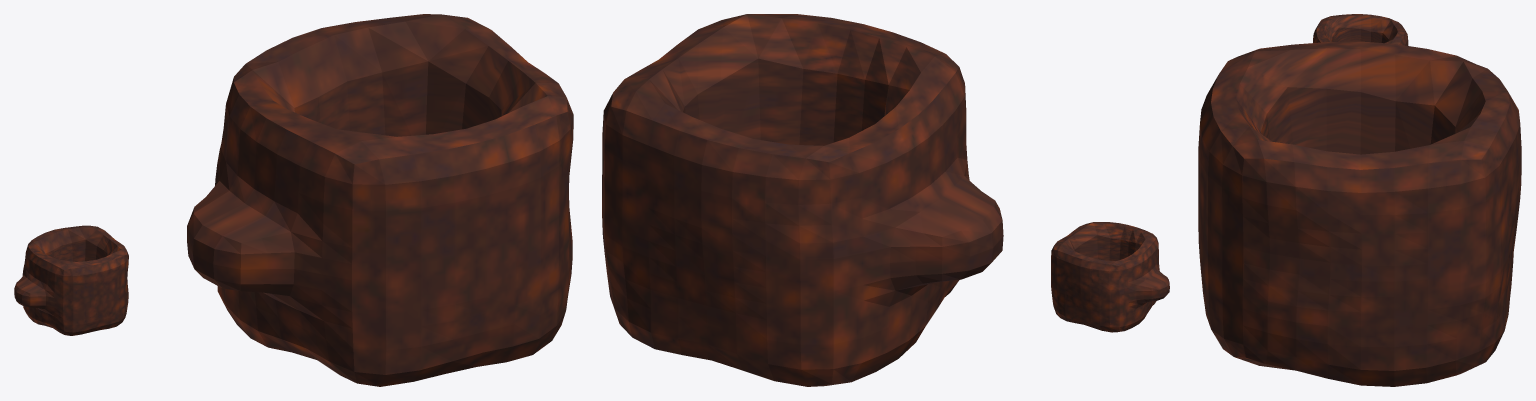
File: shackles.glb
3 views of the same model, side by side, from view 1: azimuth 30°, elevation 25°; view 2: azimuth 150°, elevation 25°; view 3: azimuth 270°, elevation 25° (orthographic). The views are drawn at different scales.
Visible parts, largest first — view 1: shackle.smd, shackle_small.smd; view 2: shackle.smd, shackle_small.smd; view 3: shackle.smd, shackle_small.smd.
Boxes of the visible parts, x1=… form: shackle.smd: x1=187, y1=14, x2=573, y2=386; shackle_small.smd: x1=14, y1=225, x2=128, y2=335; shackle.smd: x1=602, y1=14, x2=1003, y2=386; shackle_small.smd: x1=1051, y1=222, x2=1169, y2=332; shackle.smd: x1=1198, y1=41, x2=1521, y2=386; shackle_small.smd: x1=1313, y1=14, x2=1408, y2=45.
Bounding box in the file's own units: 0.8221 × 0.3712 × 0.4581.
1 material, 1 textured.
